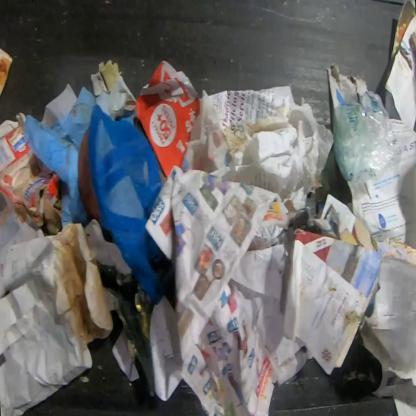cardboard: (0, 111, 63, 236)
rigid_plastic: (332, 91, 395, 184)
